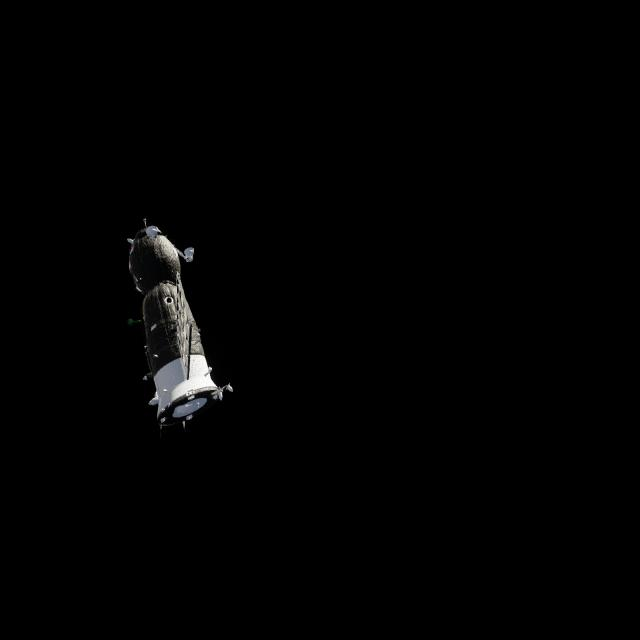Satellites revolving around earth: (124, 217, 235, 434)
